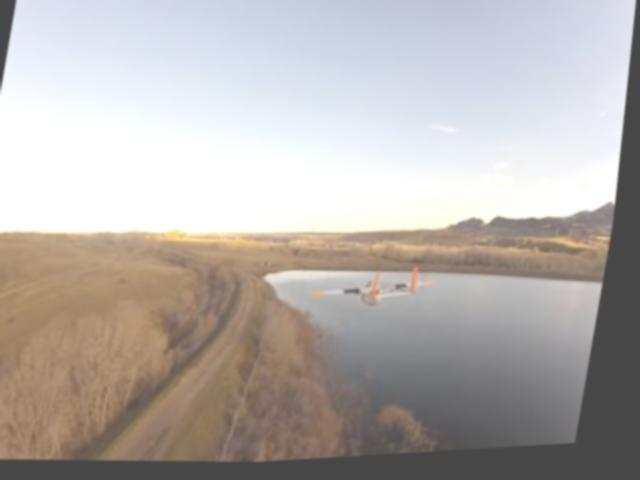uav: (312, 266, 442, 316)
